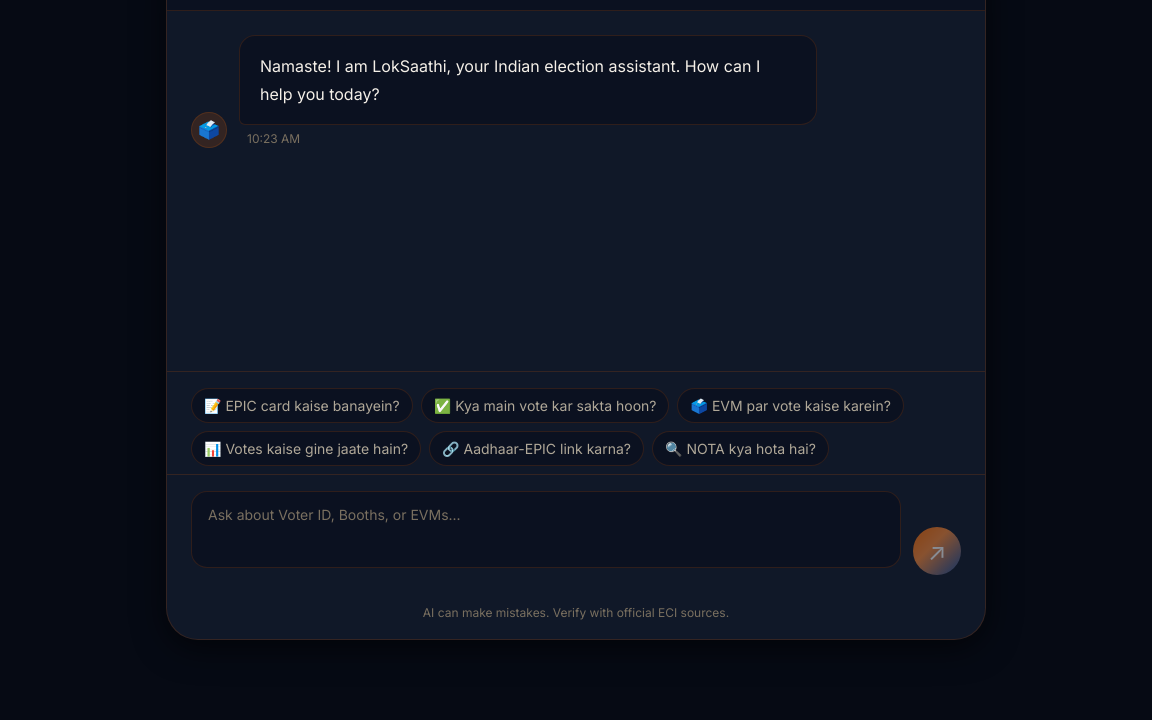
AssistantChat › handles user message and AI response
(page scrolled)
Type "Hello LokSaathi" into the text box with placeholder "Ask about Voter ID, Booths, or EVMs...".
click(546, 529); type("Hello LokSaathi")  # box [191,491,901,568]
Then press Enter
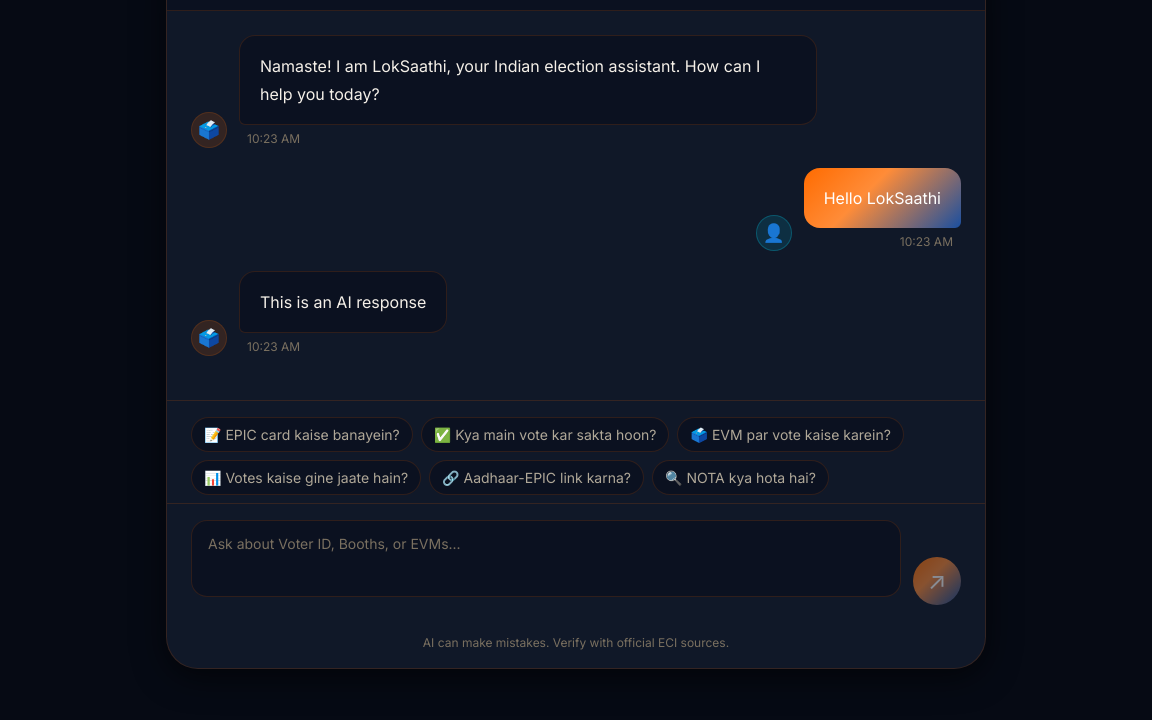
Now the text "Hello LokSaathi" is shown, box [824,184,941,212]
Now the text "This is an AI response" is shown, box [260,288,426,316]
